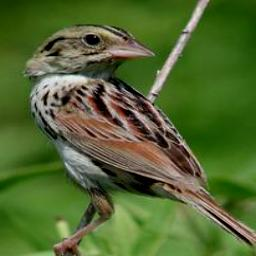Sparrow: (21, 23, 256, 256)
